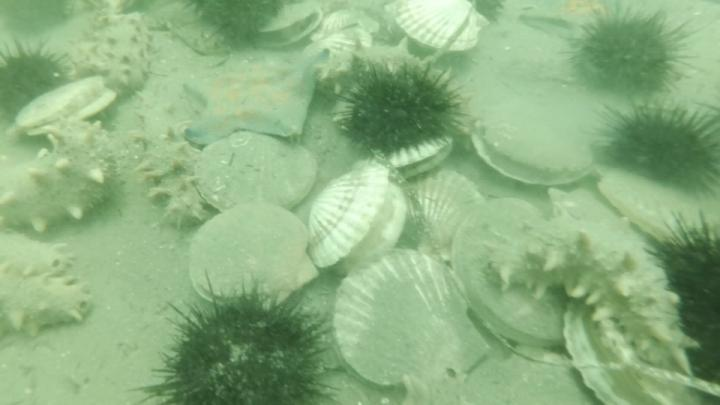echinus: (138, 275, 341, 405), (338, 57, 465, 157), (651, 210, 720, 384), (601, 98, 720, 198), (570, 7, 698, 96), (1, 38, 70, 120), (188, 1, 287, 53), (470, 1, 506, 25)
holothurian: (484, 213, 699, 375), (1, 117, 118, 238), (133, 70, 209, 235), (310, 35, 457, 98), (66, 11, 155, 94), (1, 271, 100, 339), (396, 369, 539, 405), (1, 227, 81, 277)
scallop: (333, 249, 492, 392), (451, 197, 570, 351), (560, 295, 703, 405), (189, 201, 322, 314), (469, 84, 603, 190), (305, 163, 410, 277), (194, 133, 323, 213), (598, 166, 720, 244), (400, 169, 490, 263), (17, 76, 119, 139), (394, 1, 493, 54), (250, 3, 325, 54), (378, 135, 458, 178), (546, 182, 624, 224), (307, 8, 377, 45), (301, 26, 375, 55)
starfish: (179, 49, 322, 147), (521, 1, 623, 43)
